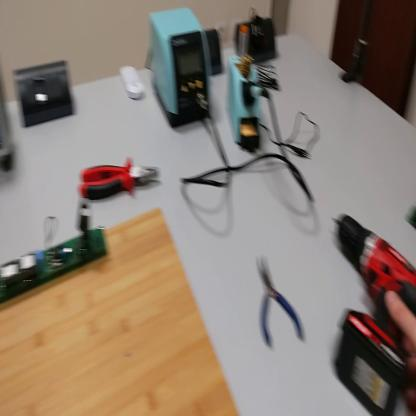electric screwdriver: (325, 211, 416, 416)
hand: (386, 286, 416, 409)
high voltage board: (2, 194, 107, 302)
oscilloscope: (1, 71, 15, 177)
pliers: (257, 257, 305, 350), (79, 158, 159, 204)
socket: (236, 13, 277, 63), (207, 28, 223, 78)
welder base: (225, 24, 265, 155)
welder station: (151, 9, 213, 131)
working area: (2, 207, 240, 415)
